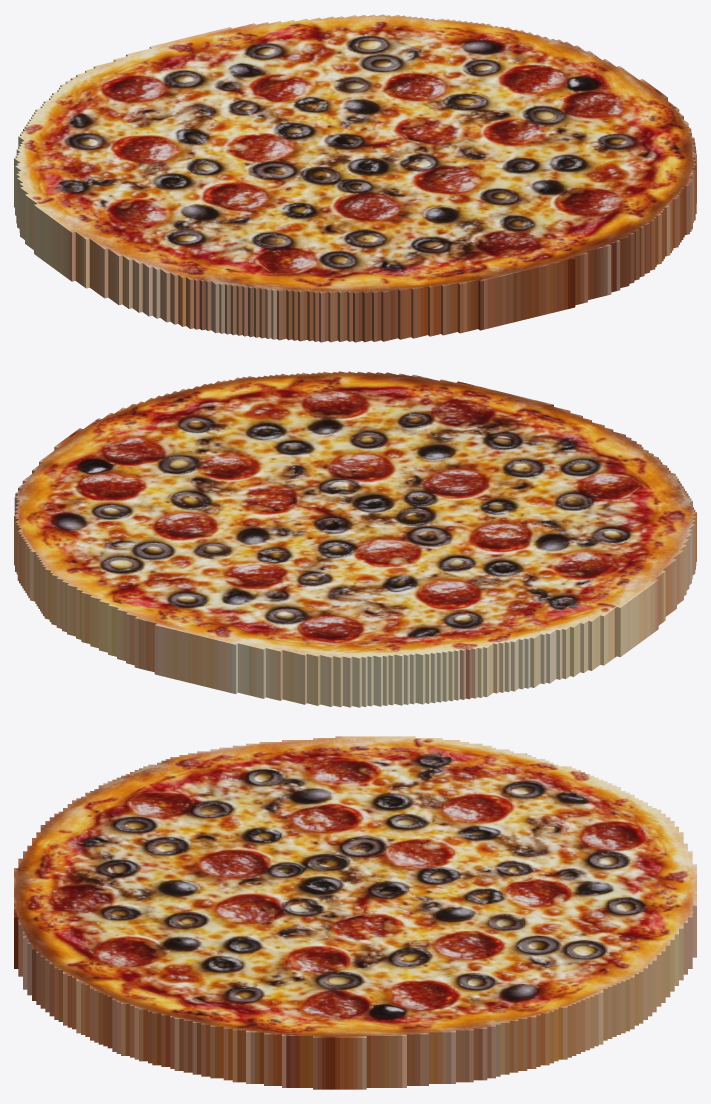
Rendered from calabazeitona.glb.
The picture shows the model from 3 angles, top to bottom: view 1: azimuth 30°, elevation 25°; view 2: azimuth 150°, elevation 25°; view 3: azimuth 270°, elevation 25°; orthographic projection. The views are drawn at different scales.
Size of the model in its own units: 0.4 by 0.032 by 0.3826.
1 material, 1 textured.
